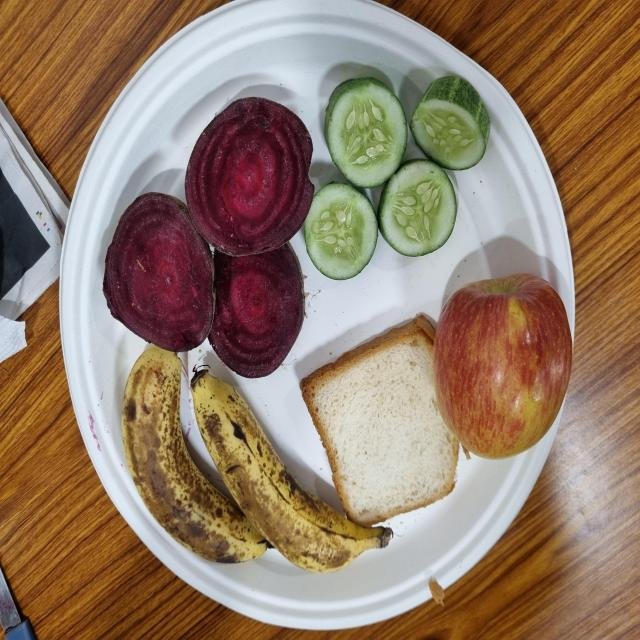apple: (434, 273, 573, 463)
banana: (188, 361, 393, 576), (122, 347, 273, 566)
cucumber: (321, 64, 408, 192), (376, 162, 459, 260), (411, 74, 491, 172), (303, 181, 379, 283)
